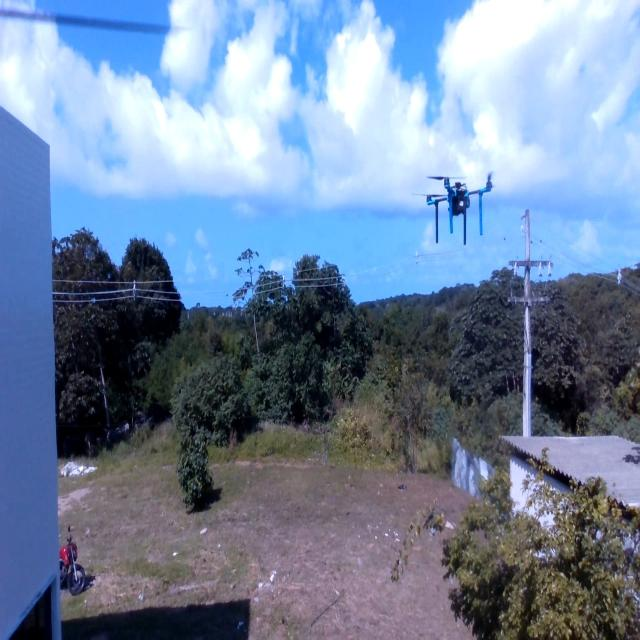-uav-: (408, 152, 502, 248)
